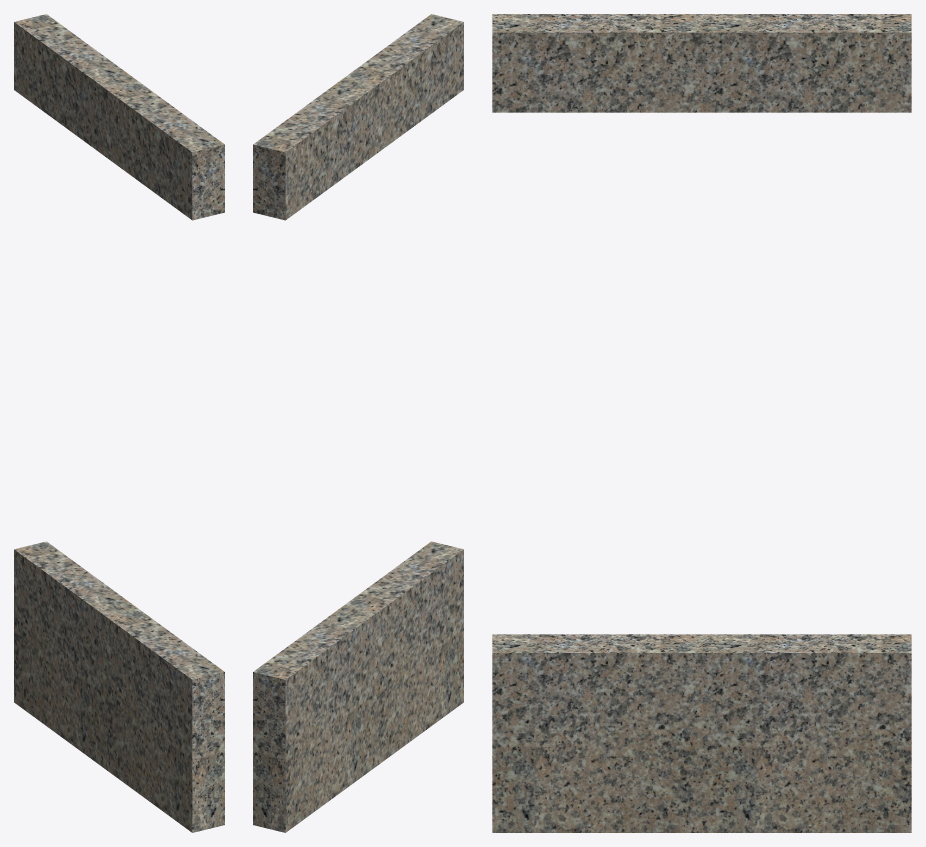
Rendered from Lobby_Wall_14.obj.
The picture shows the model from 3 angles, left to right: view 1: azimuth 30°, elevation 25°; view 2: azimuth 150°, elevation 25°; view 3: azimuth 270°, elevation 25°; orthographic projection. The views are drawn at different scales.
Parts seen in each view (by area): view 1: Lobby_Wall_14; view 2: Lobby_Wall_14; view 3: Lobby_Wall_14.
Boxes of the visible parts, x1=… form: Lobby_Wall_14: x1=14, y1=14, x2=224, y2=832; Lobby_Wall_14: x1=253, y1=14, x2=463, y2=832; Lobby_Wall_14: x1=492, y1=14, x2=911, y2=832.
Bounding box in the file's own units: 0.2 × 4 × 1.9.
Materials: 1 (1 with a texture image).
